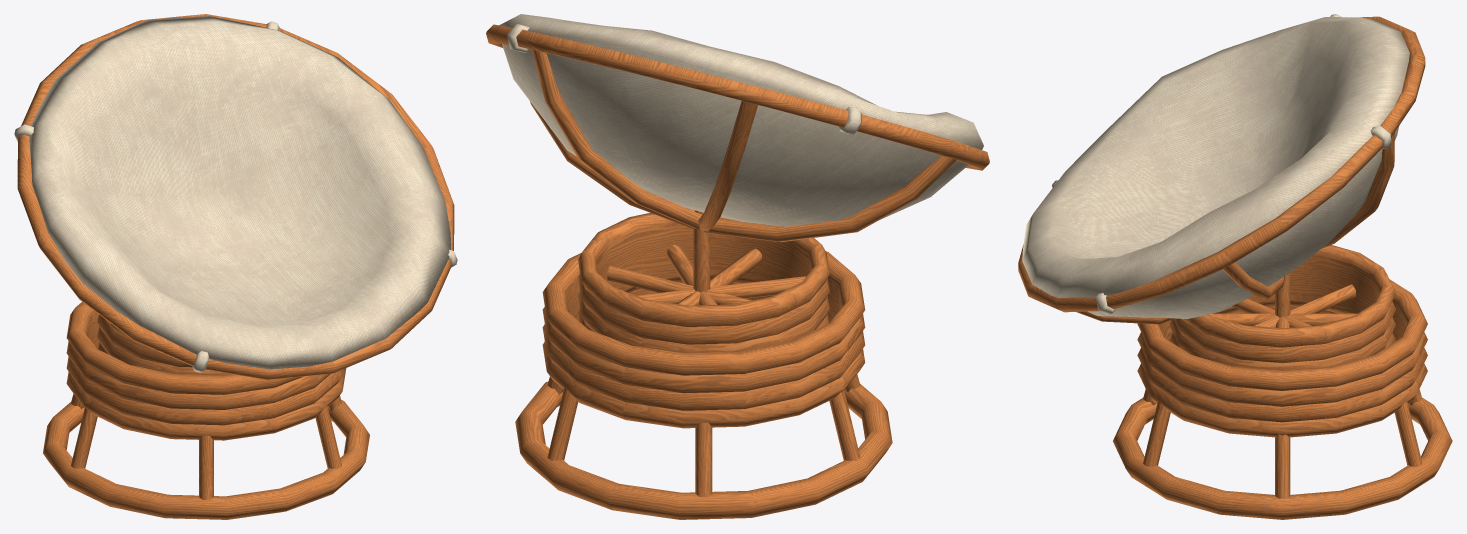
The model's file is chair_061.fbx.
3 renders of one model, left to right at view 1: azimuth 30°, elevation 25°; view 2: azimuth 150°, elevation 25°; view 3: azimuth 270°, elevation 25°, orthographic. The views are drawn at different scales.
Parts seen in each view (by area): view 1: chair_061; view 2: chair_061; view 3: chair_061.
Part boxes in pixels (x1,y1,x2,y2): chair_061: (14, 14, 457, 519); chair_061: (486, 14, 989, 519); chair_061: (1018, 14, 1452, 519).
Bounding box in the file's own units: 122 × 113 × 115.
